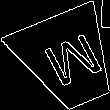M_SE: (33, 28, 104, 93)
